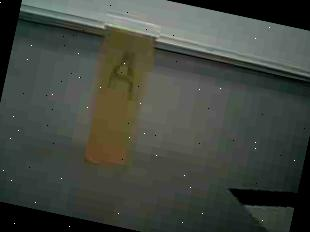Bottle A: (64, 3, 177, 178)
